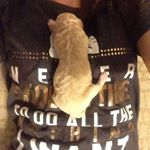puppy: (44, 11, 112, 124)
